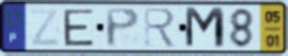8: (228, 6, 256, 50)
E: (61, 8, 96, 48)
M: (183, 5, 228, 51)
P: (103, 6, 142, 49)
R: (142, 6, 178, 50)
Z: (28, 7, 62, 48)
